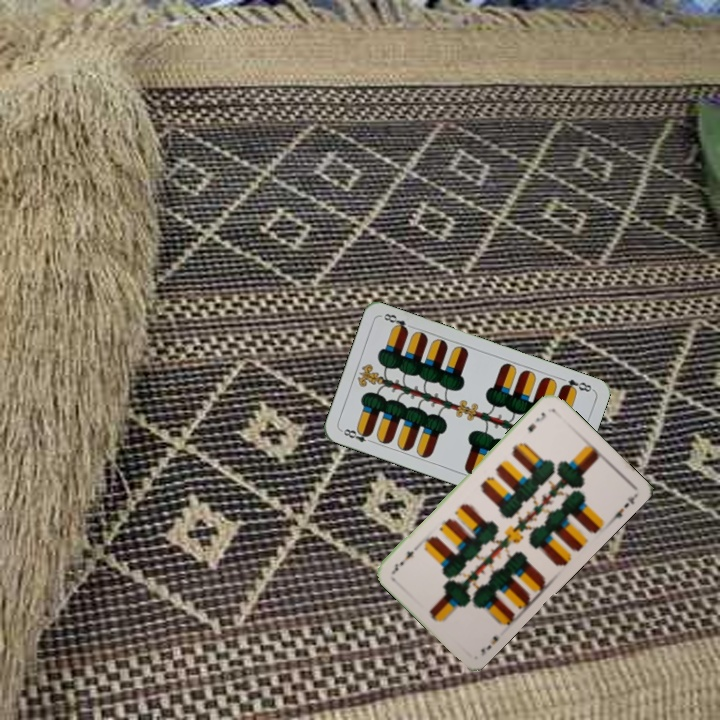E7: (523, 408, 549, 435), (477, 632, 501, 658)
E8: (337, 424, 377, 446), (557, 375, 595, 395)
